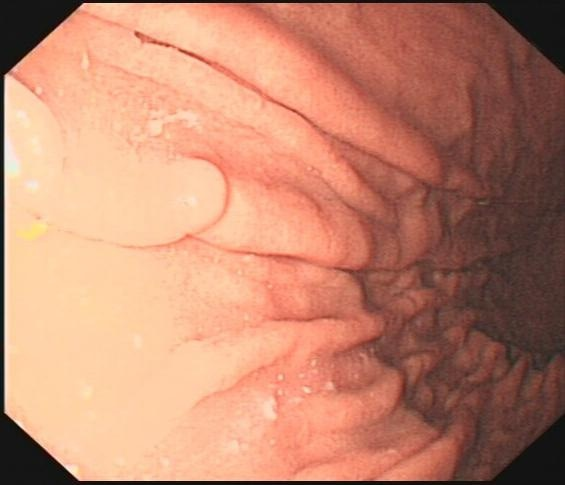Polyp: (164, 143, 228, 241)
